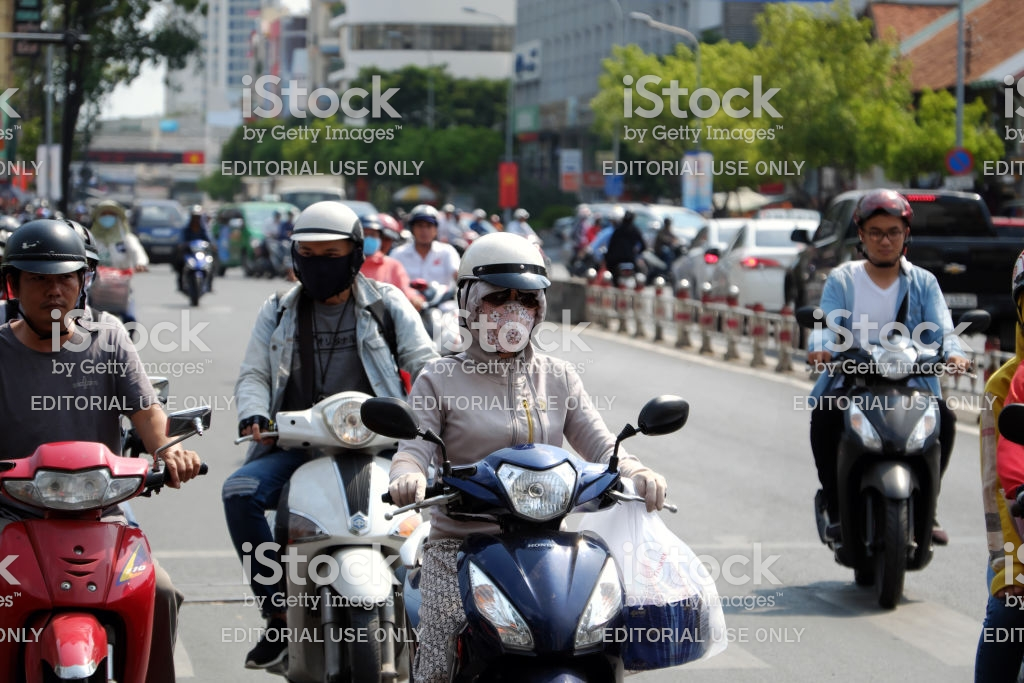helmet: (6, 222, 95, 285), (456, 238, 552, 282), (285, 207, 372, 247), (852, 189, 912, 224)
